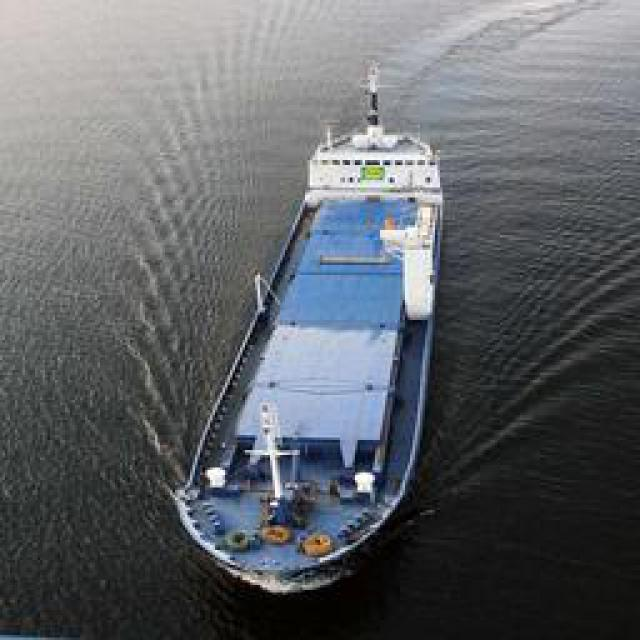Ship: (169, 56, 432, 594)
